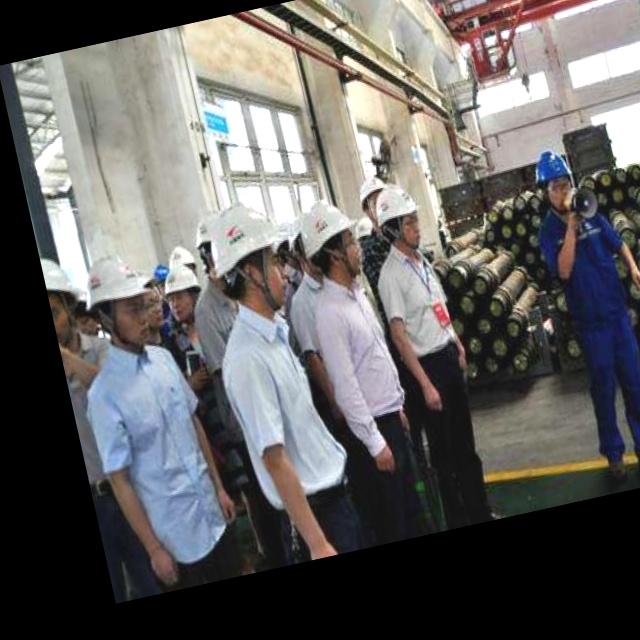Sin_Chaleco: (75, 339, 235, 577)
